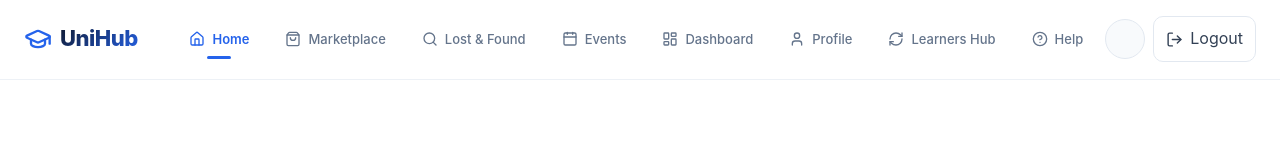
Navbar › logs out successfully and displays the Login link
Click the button "Logout" at (1205, 39), box [1153,16,1256,62]
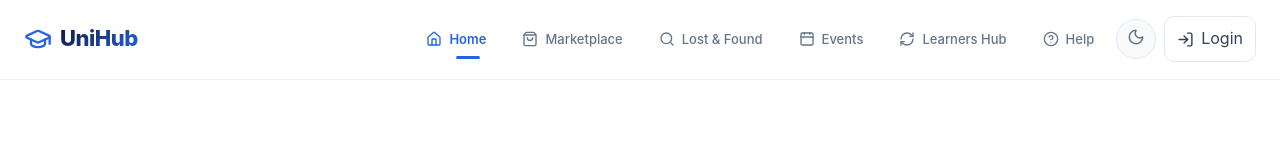
Expected: the link "Login" is shown, [1164,16,1256,62]
